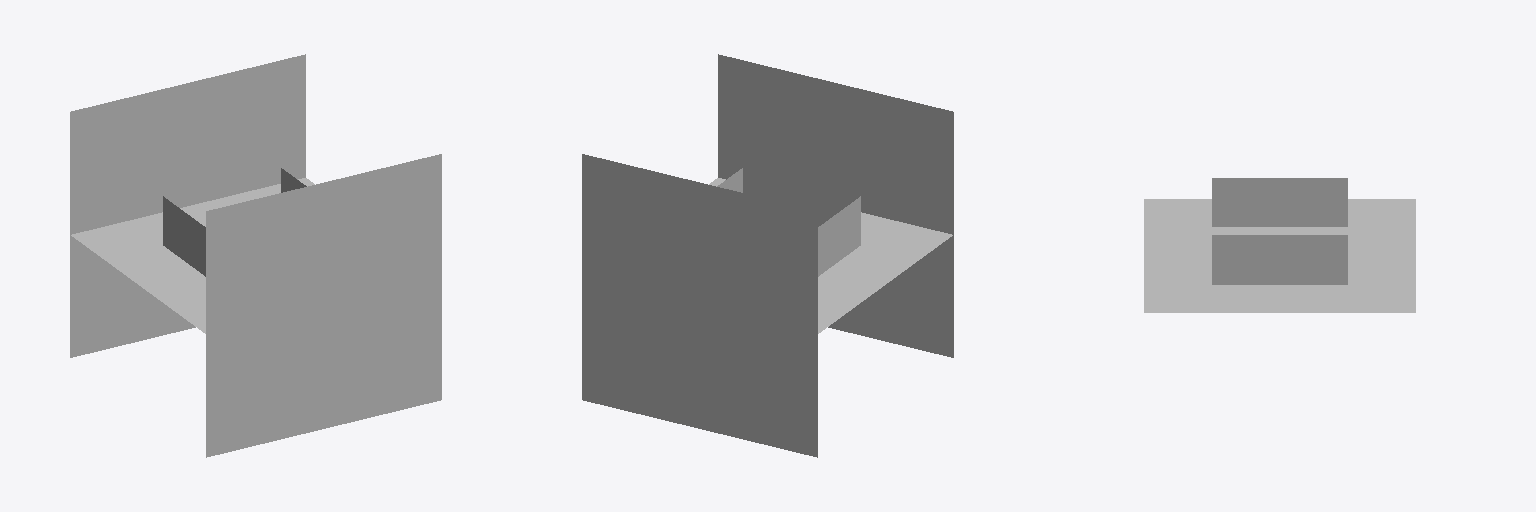
File: first.obj
3 views of the same model, side by side, from view 1: azimuth 30°, elevation 25°; view 2: azimuth 150°, elevation 25°; view 3: azimuth 270°, elevation 25° (orthographic).
Visible parts, largest first — view 1: Plane.004_Plane.007, Plane.005_Plane.008, Plane.009, Plane.001_Plane.003; view 2: Plane.005_Plane.008, Plane.004_Plane.007, Plane.009, Plane.003_Plane.005, Plane.001_Plane.003; view 3: Plane.009, Plane.002_Plane.004, Plane.001_Plane.003.
Part boxes in pixels (left/top/right/bottom): Plane.004_Plane.007: left=206, top=154, right=441, bottom=457; Plane.005_Plane.008: left=70, top=54, right=305, bottom=357; Plane.009: left=71, top=178, right=314, bottom=333; Plane.001_Plane.003: left=163, top=196, right=205, bottom=276; Plane.005_Plane.008: left=582, top=154, right=817, bottom=457; Plane.004_Plane.007: left=718, top=54, right=953, bottom=357; Plane.009: left=709, top=178, right=952, bottom=333; Plane.003_Plane.005: left=743, top=168, right=859, bottom=226; Plane.001_Plane.003: left=818, top=196, right=860, bottom=276; Plane.009: left=1144, top=199, right=1415, bottom=312; Plane.002_Plane.004: left=1212, top=235, right=1347, bottom=284; Plane.001_Plane.003: left=1212, top=178, right=1347, bottom=226.
Bounding box in the file's own units: 20 × 20 × 20.